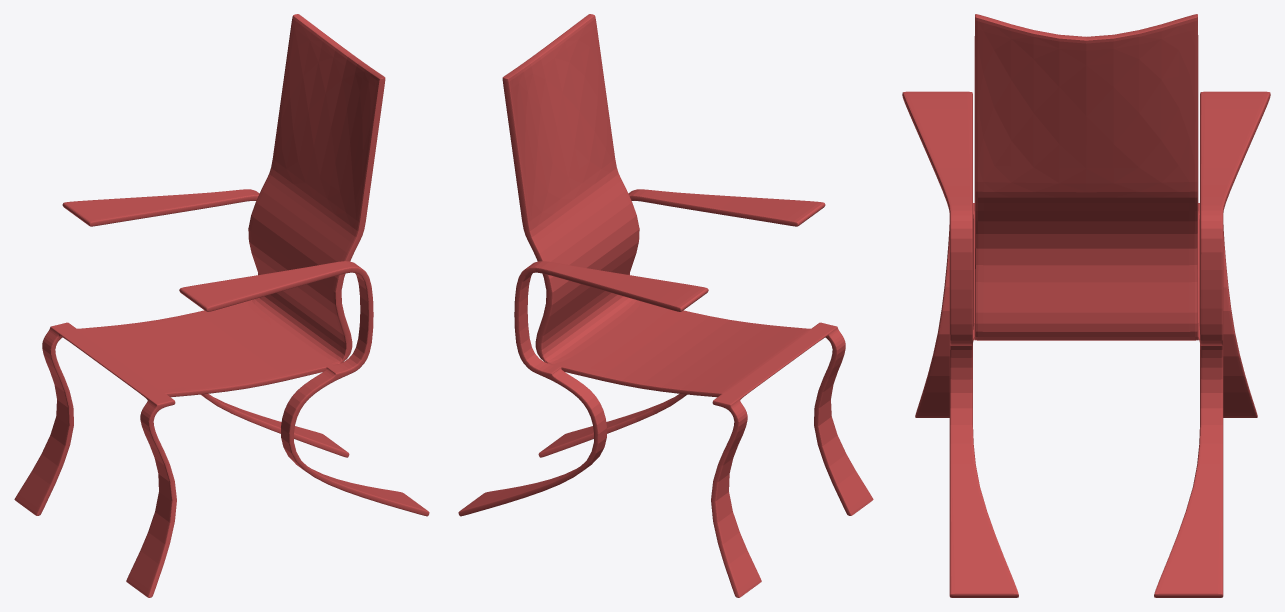
File: Chair2 fbx.fbx
3 renders of one model, left to right at view 1: azimuth 30°, elevation 25°; view 2: azimuth 150°, elevation 25°; view 3: azimuth 270°, elevation 25°, orthographic. The views are drawn at different scales.
Visible parts, largest first — view 1: thechairobj:Plane02; view 2: thechairobj:Plane02; view 3: thechairobj:Plane02.
Boxes of the visible parts, bbox=[...] form: thechairobj:Plane02: bbox=[14, 14, 429, 597]; thechairobj:Plane02: bbox=[458, 14, 873, 597]; thechairobj:Plane02: bbox=[902, 14, 1270, 597].
Bounding box in the file's own units: 24.65 × 35.14 × 20.88.
